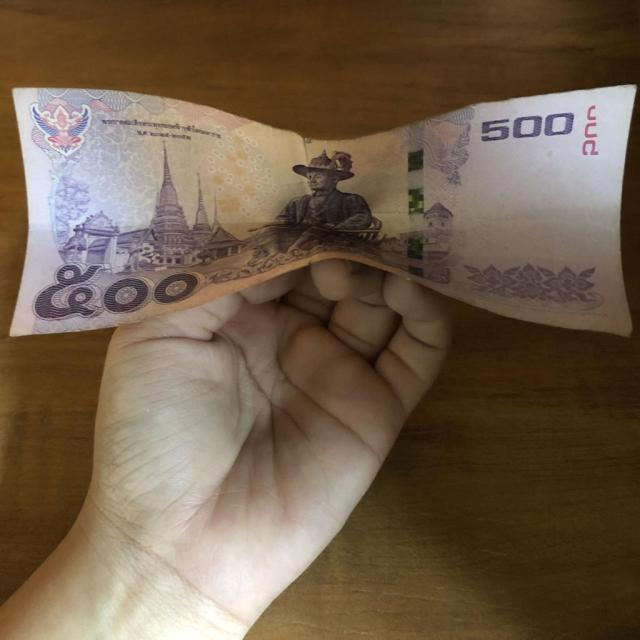THAI500: (11, 86, 634, 336)
